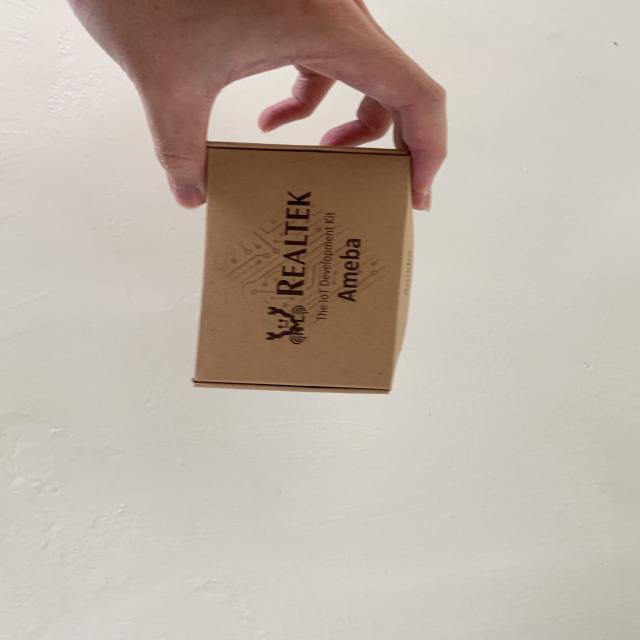box: (186, 120, 445, 405)
